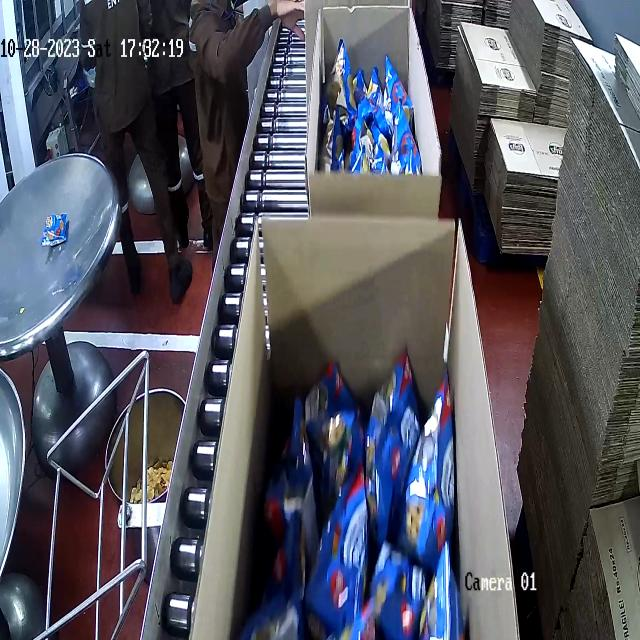PAPRIKA: (250, 372, 458, 640), (321, 52, 425, 166)
